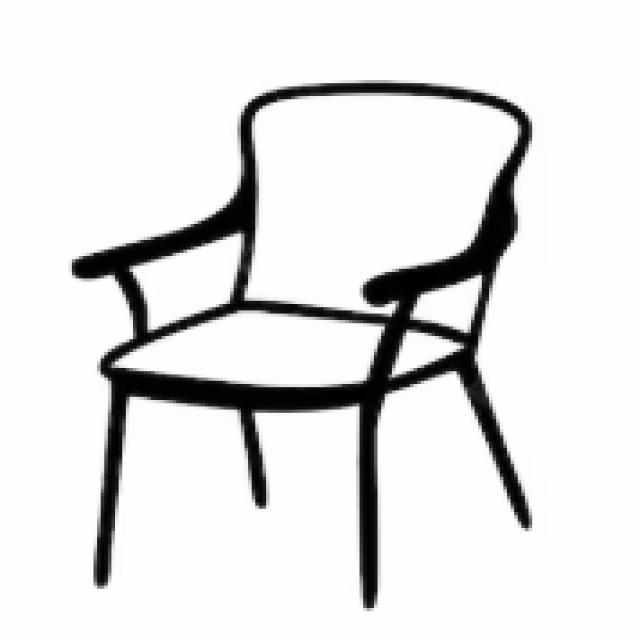Armrest: (69, 195, 241, 344), (358, 245, 492, 385)
Backrest: (235, 86, 524, 339)
Leg_Structure: (92, 353, 537, 615)
Seat: (103, 301, 477, 396)
